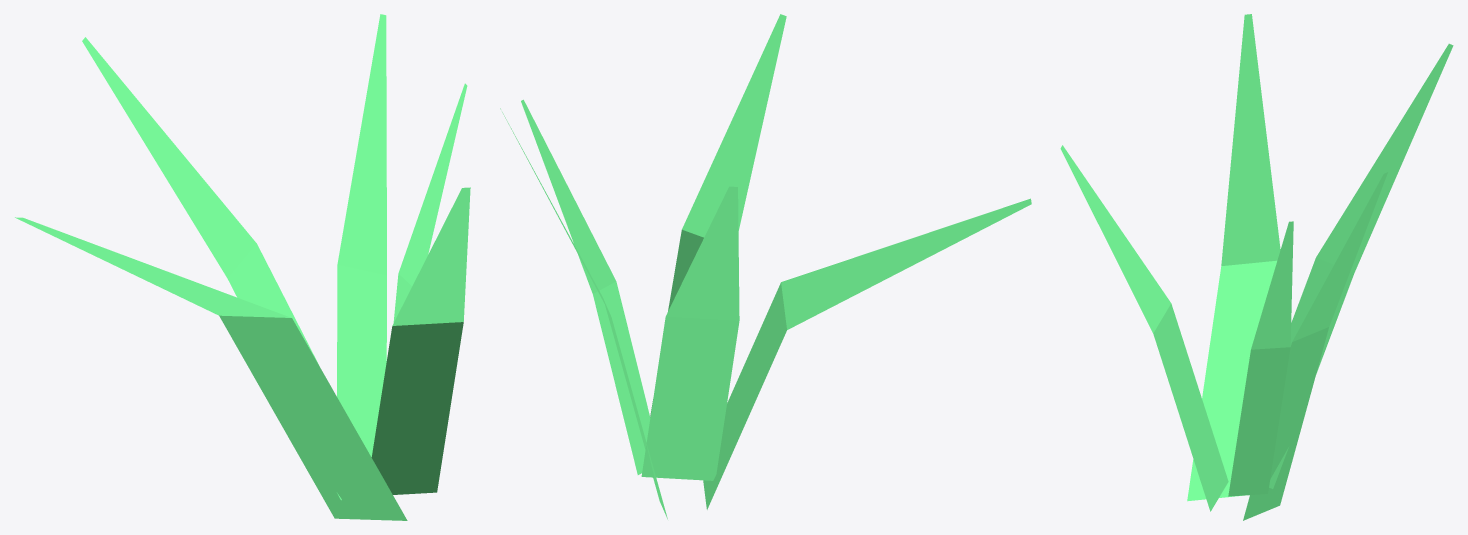
File: SM_BigGrass_01.fbx
3 renders of one model, left to right at view 1: azimuth 30°, elevation 25°; view 2: azimuth 150°, elevation 25°; view 3: azimuth 270°, elevation 25°, orthographic. The views are drawn at different scales.
Visible parts, largest first — view 1: Plane.001; view 2: Plane.001; view 3: Plane.001.
Part boxes in pixels (left/top/right/bottom): Plane.001: left=15, top=14, right=470, bottom=520; Plane.001: left=500, top=14, right=1031, bottom=519; Plane.001: left=1060, top=14, right=1453, bottom=520.
Bounding box in the file's own units: 103 × 90.85 × 82.09.
